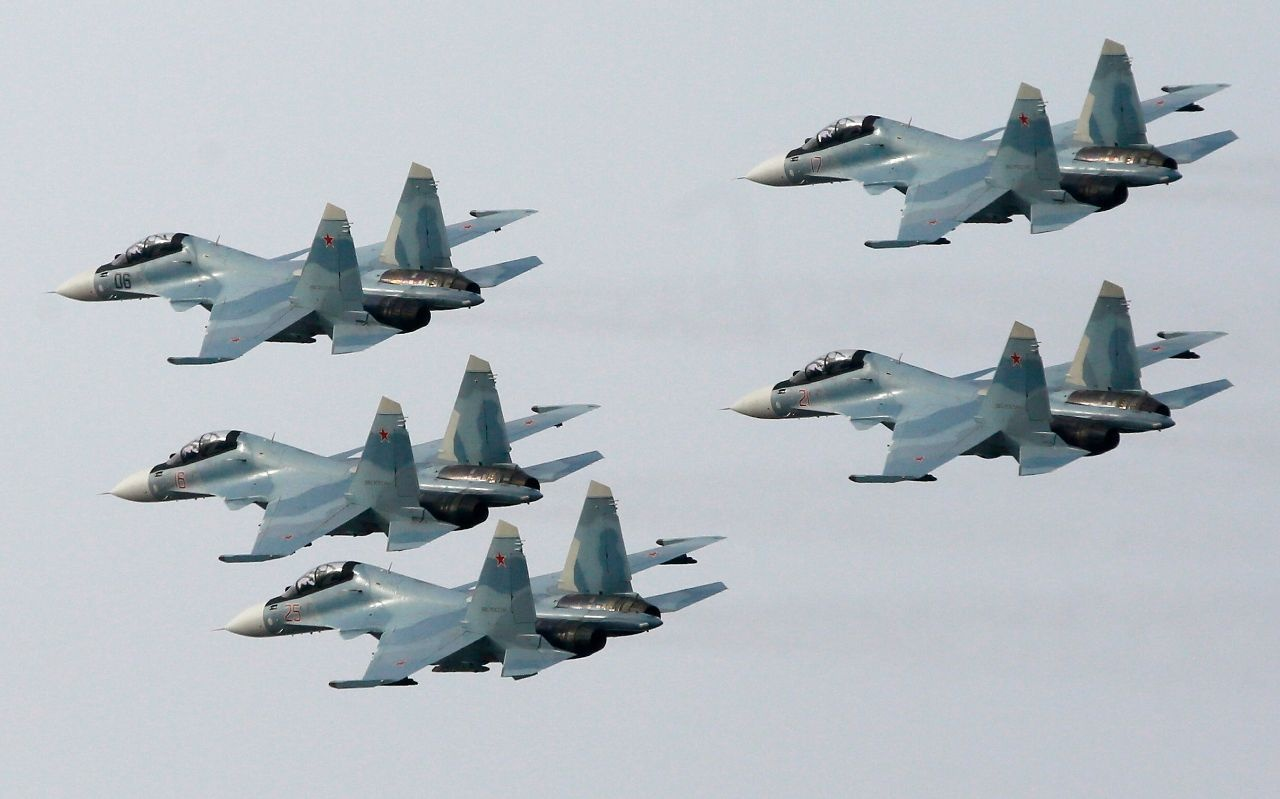airplane: (15, 154, 541, 367), (89, 357, 606, 571), (211, 484, 729, 688), (721, 281, 1231, 487), (739, 42, 1240, 249)
